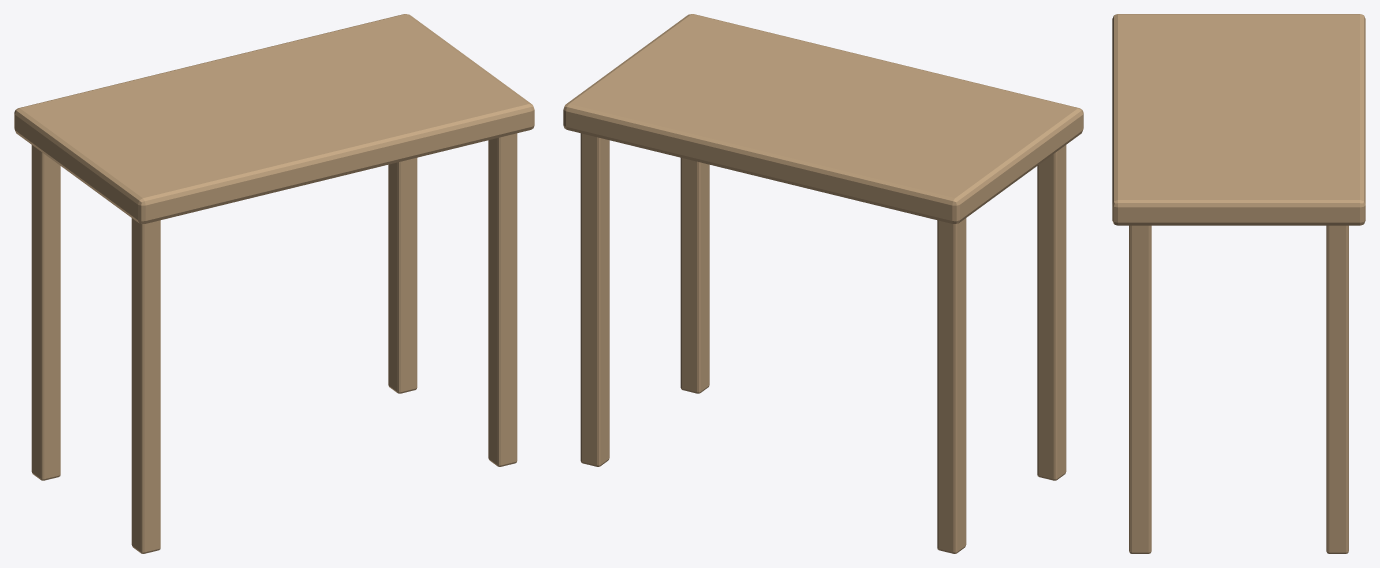
The model's file is stool.glb.
The picture shows the model from 3 angles, left to right: view 1: azimuth 30°, elevation 25°; view 2: azimuth 150°, elevation 25°; view 3: azimuth 270°, elevation 25°; orthographic projection.
Parts seen in each view (by area): view 1: stool; view 2: stool; view 3: stool.
Boxes of the visible parts, x1=… form: stool: x1=14, y1=14, x2=534, y2=553; stool: x1=563, y1=14, x2=1083, y2=553; stool: x1=1112, y1=14, x2=1365, y2=553.
Size of the model in its own units: 1.6 by 1.4 by 0.9.
